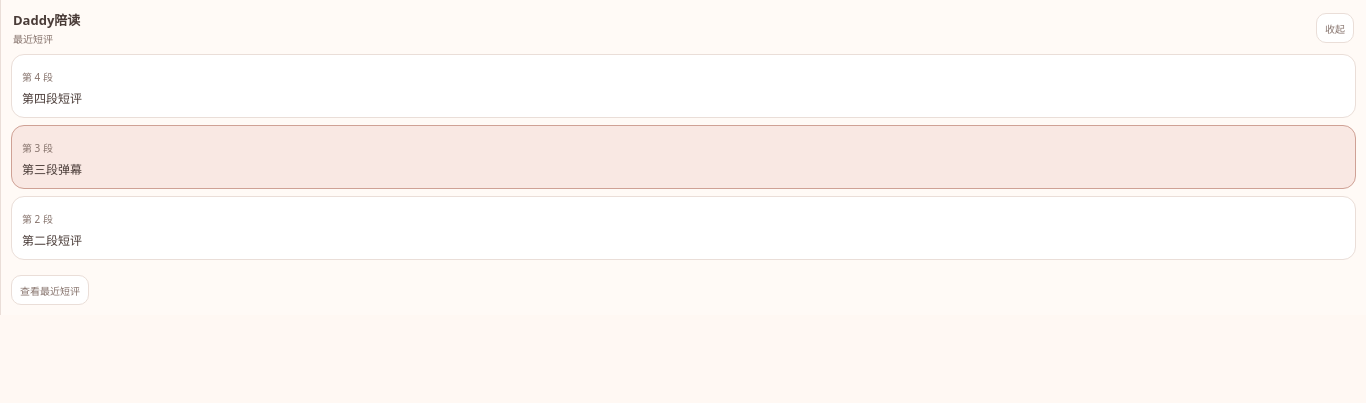
Scenario: CompanionDock › shows the latest three comments in wide mode and expands to recent comments
Expected: the text "第四段短评" is shown, [22,90,82,107]
Expected: the text "第三段弹幕" is shown, [22,161,82,178]
Click the button "查看最近短评": (50, 290) [11,275,89,305]
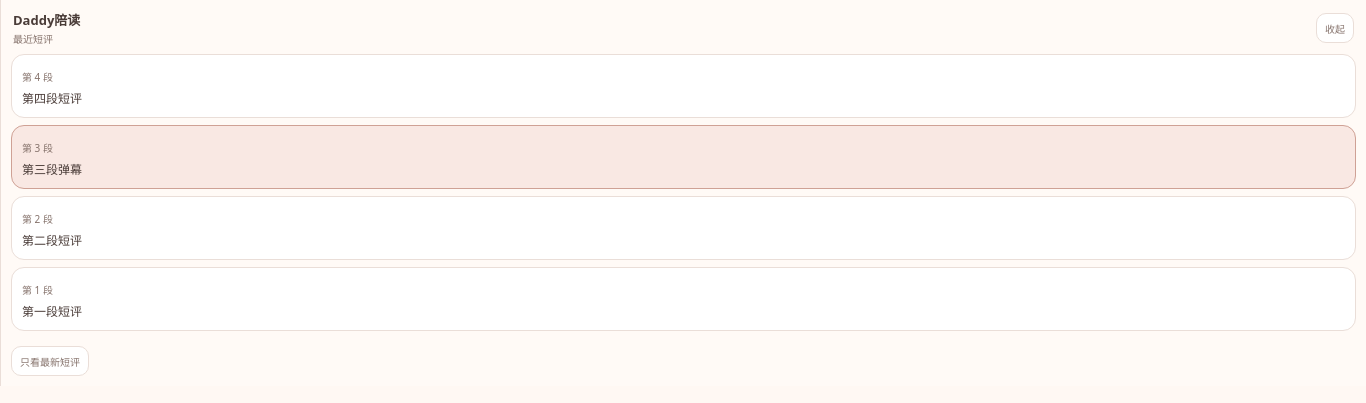
Now the text "第一段短评" is shown, box [22,303,82,320]
